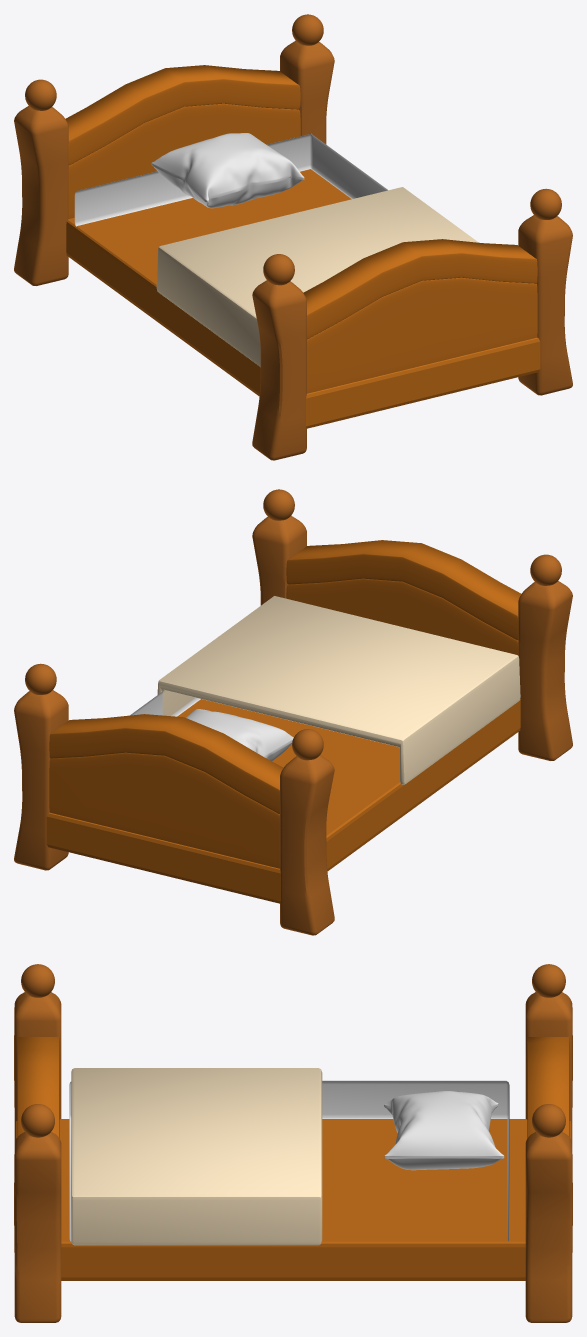
Rendered from lit.glb.
3 views of the same model, one above another, from view 1: azimuth 30°, elevation 25°; view 2: azimuth 150°, elevation 25°; view 3: azimuth 270°, elevation 25° (orthographic). The views are drawn at different scales.
Parts seen in each view (by area): view 1: Plane.003, Plane.004, Plane.002, Plane.006, Plane.013, Plane.005; view 2: Plane.003, Plane.006, Plane.004, Plane.002, Plane.013, Plane.005; view 3: Plane.006, Plane.002, Plane.004, Plane.013, Plane.003, Plane.005.
Boxes of the visible parts, x1,y1,x2,y2 form: Plane.003: (65, 65, 537, 393); Plane.004: (14, 14, 572, 460); Plane.002: (66, 169, 540, 428); Plane.006: (156, 187, 478, 366); Plane.013: (151, 133, 304, 208); Plane.005: (74, 133, 387, 226); Plane.003: (49, 540, 521, 868); Plane.006: (157, 596, 520, 784); Plane.004: (14, 489, 572, 935); Plane.002: (46, 699, 520, 903); Plane.013: (186, 709, 293, 761); Plane.005: (130, 691, 200, 716); Plane.006: (71, 1068, 322, 1245); Plane.002: (15, 1119, 571, 1280); Plane.004: (14, 964, 572, 1322); Plane.013: (384, 1091, 504, 1170); Plane.003: (17, 1037, 569, 1137); Plane.005: (69, 1080, 509, 1241).
Bounding box in the file's own units: 0.9048 × 0.5577 × 1.35.
